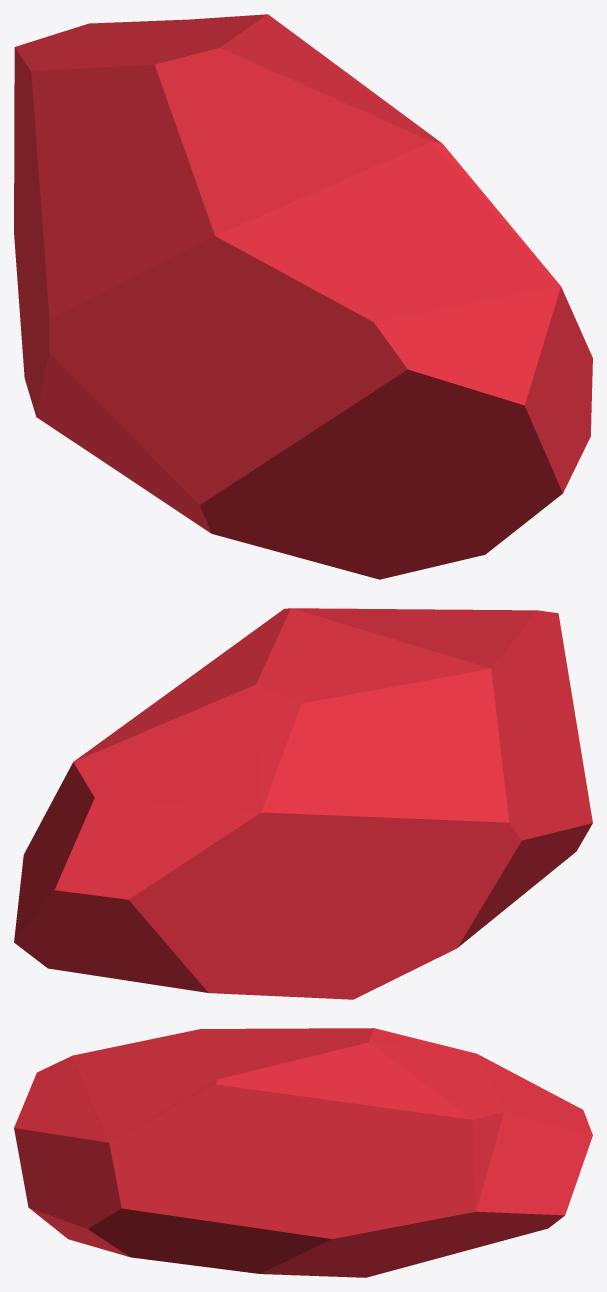
Rendered from Ruby_1.fbx.
The picture shows the model from 3 angles, top to bottom: view 1: azimuth 30°, elevation 25°; view 2: azimuth 150°, elevation 25°; view 3: azimuth 270°, elevation 25°; orthographic projection. The views are drawn at different scales.
Visible parts, largest first — view 1: Crystal_Cube.001; view 2: Crystal_Cube.001; view 3: Crystal_Cube.001.
Part boxes in pixels (bbox=[...]): Crystal_Cube.001: bbox=[14, 14, 592, 579]; Crystal_Cube.001: bbox=[14, 608, 592, 999]; Crystal_Cube.001: bbox=[14, 1028, 592, 1277].
Bounding box in the file's own units: 0.9763 × 0.7893 × 1.84.
Materials: 1 (1 with a texture image).
